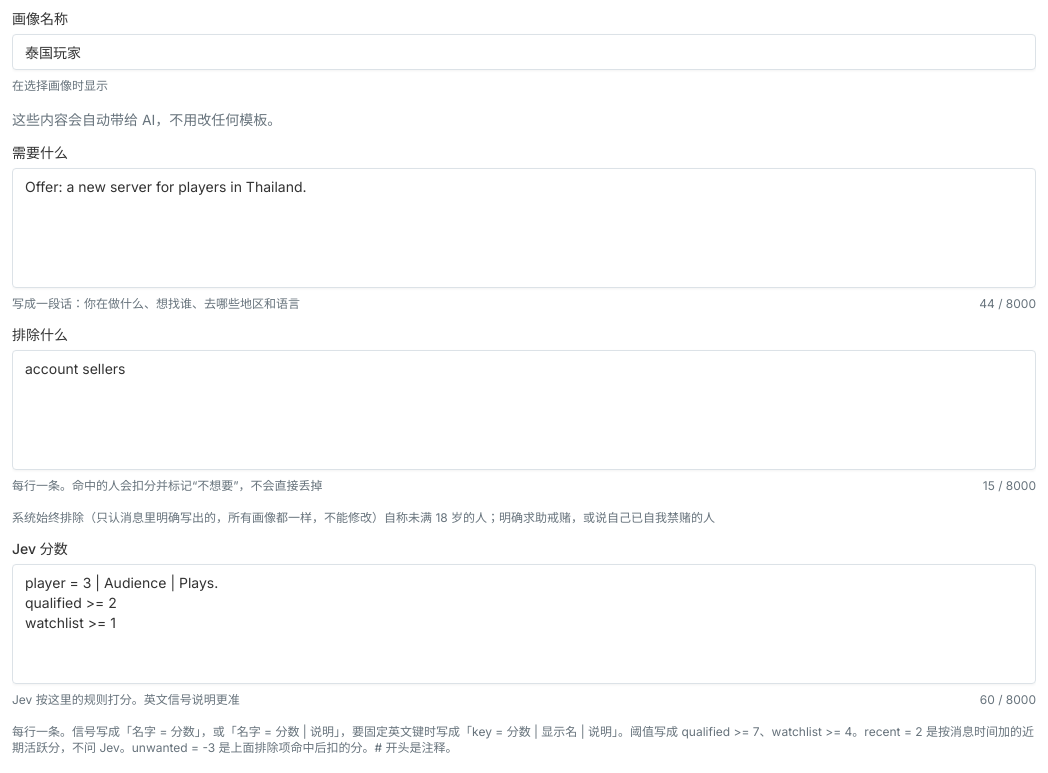
it: GrowthProfileForm › shows the three prompts and an added one, and says when a change is unsaved
The image size is (1048, 773).
Expected: the text box labelled "排除什么" holds "account sellers", [12, 350, 1036, 470]
Replace the text in the text box labelled "需要什么" with "改过的需要" at x=524, y=228, box [12, 168, 1036, 288]
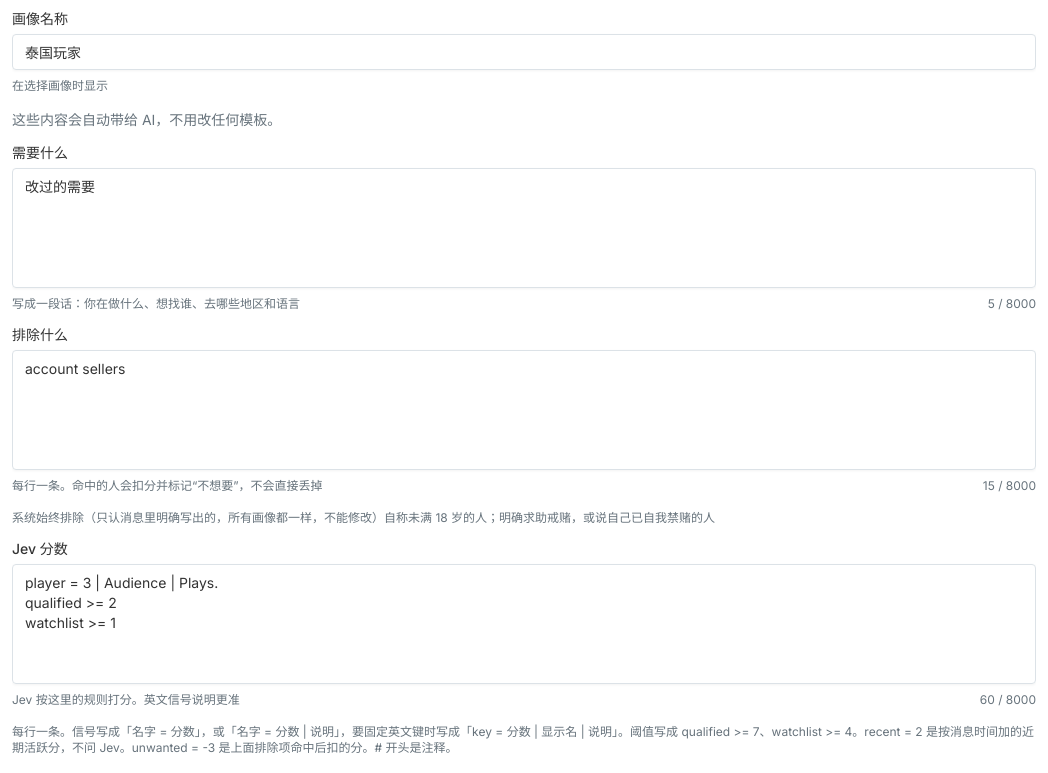
Result: the text "5 / 8000" is shown at [988, 296, 1036, 312]
